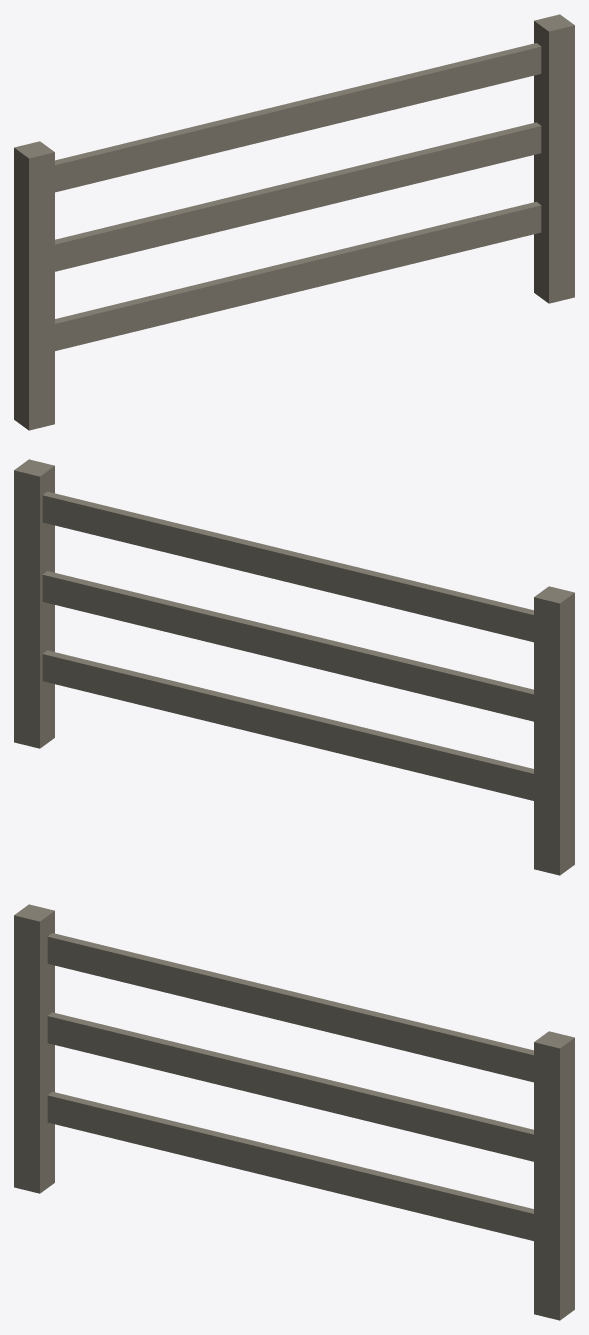
File: GI_FenceSection_01.glb
3 renders of one model, top to bottom at view 1: azimuth 30°, elevation 25°; view 2: azimuth 150°, elevation 25°; view 3: azimuth 330°, elevation 25°, orthographic.
Visible parts, largest first — view 1: GI_FenceSection_01; view 2: GI_FenceSection_01; view 3: GI_FenceSection_01.
Part boxes in pixels (box(x1,y1,x2,y2)): GI_FenceSection_01: box(14, 14, 574, 430); GI_FenceSection_01: box(14, 459, 574, 875); GI_FenceSection_01: box(14, 904, 574, 1320).
Size of the model in its own units: 2.52 by 1.2 by 0.12.
Materials: 1 (1 with a texture image).
